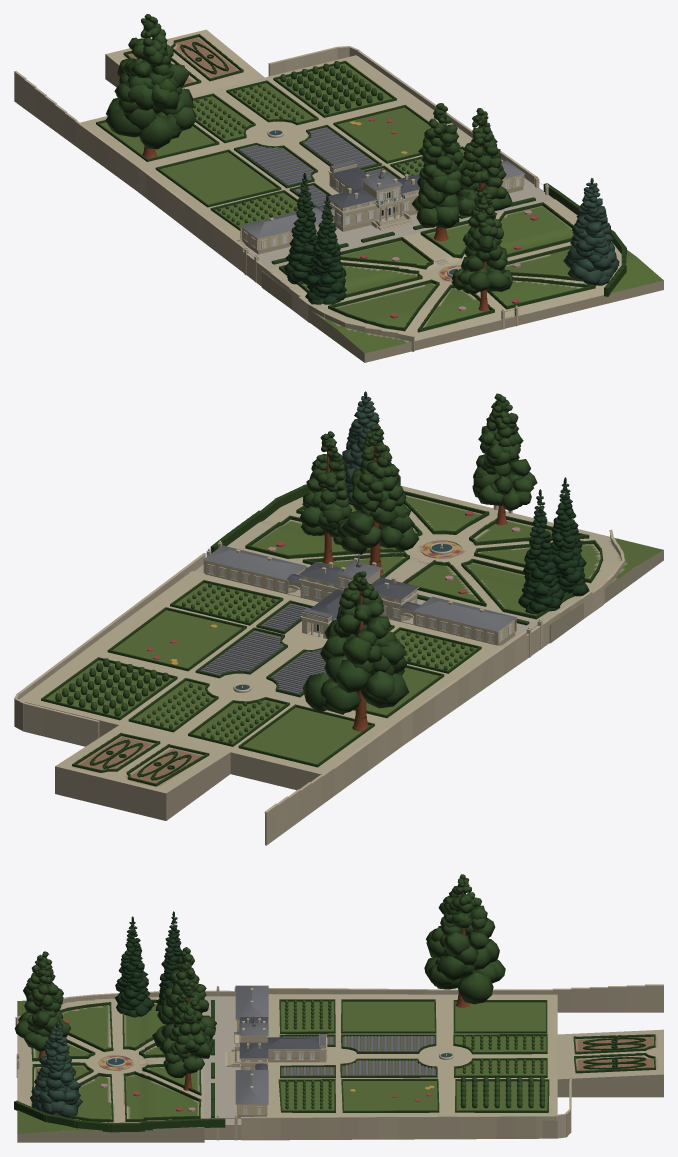
3 renders of one model, top to bottom at view 1: azimuth 30°, elevation 25°; view 2: azimuth 150°, elevation 25°; view 3: azimuth 270°, elevation 25°, orthographic. The views are drawn at different scales.
Parts seen in each view (by area): view 1: casita_del_principe; view 2: casita_del_principe; view 3: casita_del_principe.
Boxes of the visible parts, x1,y1,x2,y2 form: casita_del_principe: [14, 14, 663, 362]; casita_del_principe: [14, 391, 663, 845]; casita_del_principe: [14, 874, 663, 1142].
Size of the model in its own units: 98.32 by 49.1 by 196.
